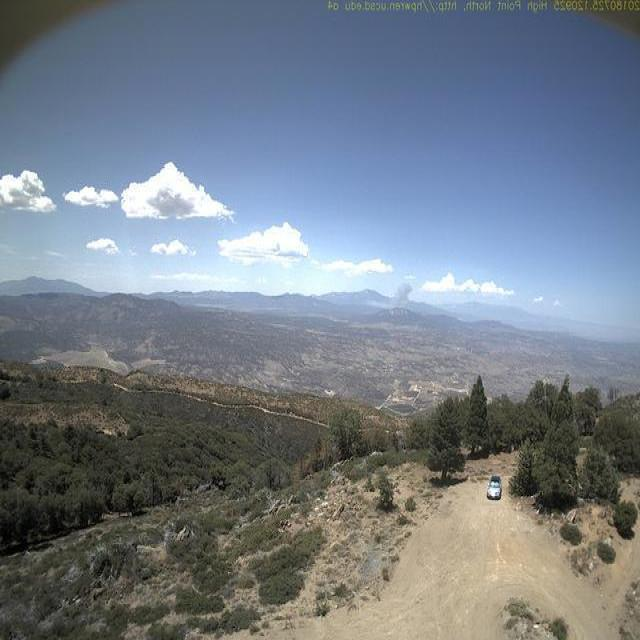Smoke: (363, 275, 422, 313)
